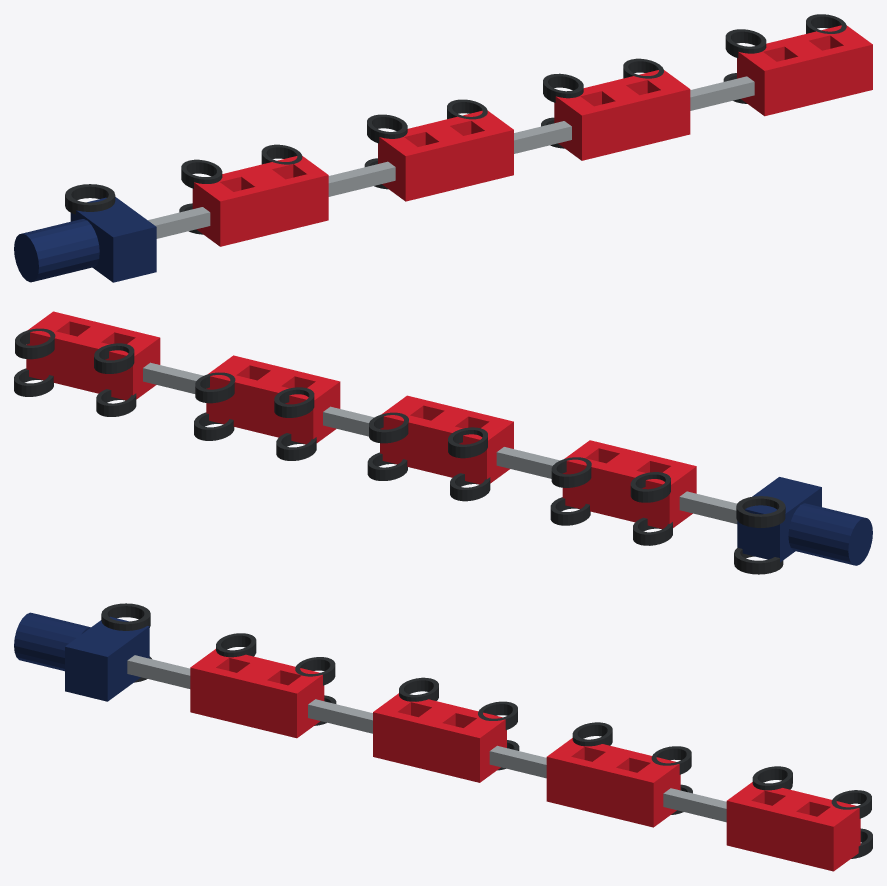
Rendered from tinker.obj.
3 renders of one model, top to bottom at view 1: azimuth 30°, elevation 25°; view 2: azimuth 150°, elevation 25°; view 3: azimuth 330°, elevation 25°, orthographic.
Visible parts, largest first — view 1: group_0_15277357, group_0_1650274, group_0_2829873, group_0_10988977; view 2: group_0_15277357, group_0_2829873, group_0_1650274, group_0_10988977; view 3: group_0_15277357, group_0_2829873, group_0_1650274, group_0_10988977.
Boxes of the visible parts, <box> form: group_0_15277357: <box>192,25,872,246</box>; group_0_1650274: <box>14,197,156,282</box>; group_0_2829873: <box>65,14,846,234</box>; group_0_10988977: <box>148,76,754,238</box>; group_0_15277357: <box>26,311,696,528</box>; group_0_2829873: <box>14,328,785,574</box>; group_0_1650274: <box>737,477,872,565</box>; group_0_10988977: <box>143,362,737,523</box>; group_0_15277357: <box>190,649,860,871</box>; group_0_2829873: <box>101,603,872,858</box>; group_0_1650274: <box>14,612,149,701</box>; group_0_10988977: <box>127,655,726,822</box>.
Size of the model in its own units: 386 by 26 by 44.
